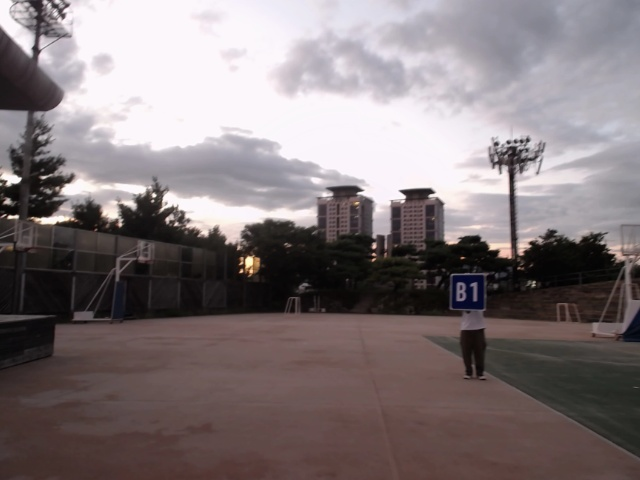delivery_b1: (451, 273, 485, 310)
